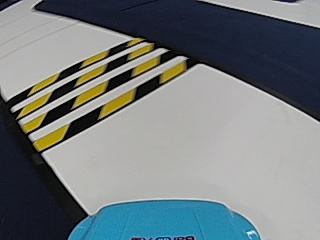bump: (22, 41, 154, 141)
